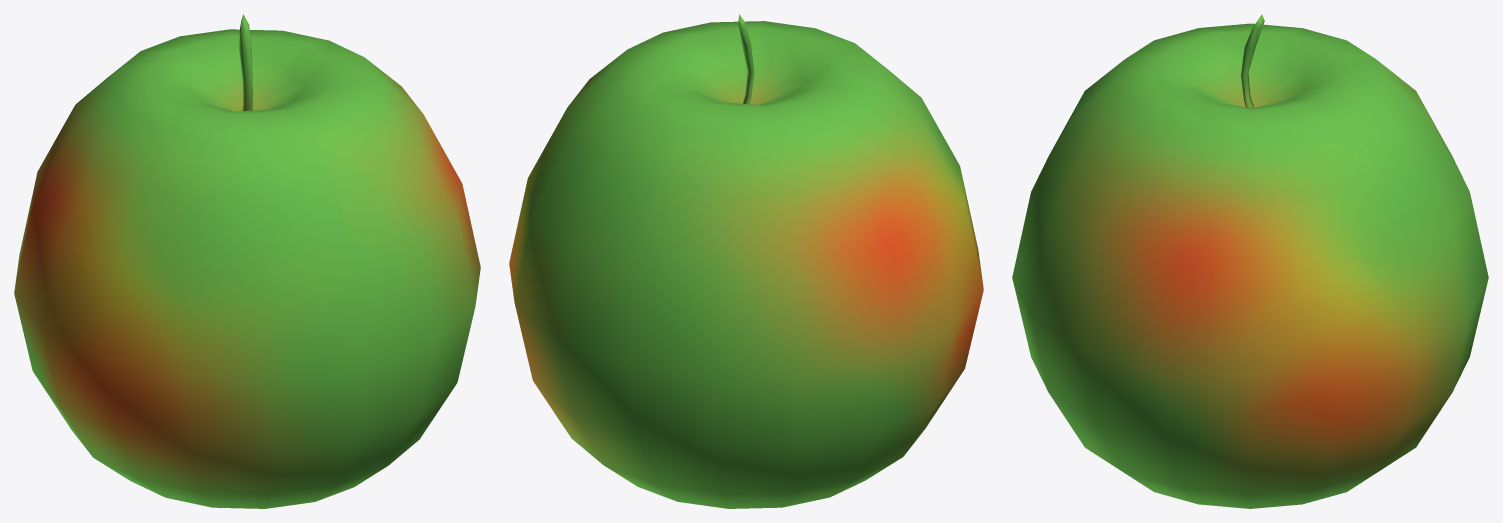
The model's file is apple.FBX.
The picture shows the model from 3 angles, left to right: view 1: azimuth 30°, elevation 25°; view 2: azimuth 150°, elevation 25°; view 3: azimuth 270°, elevation 25°; orthographic projection.
Parts seen in each view (by area): view 1: apple; view 2: apple; view 3: apple.
Part boxes in pixels (x1,y1,x2,y2): apple: [14, 14, 480, 508]; apple: [509, 14, 983, 508]; apple: [1012, 14, 1488, 508].
Bounding box in the file's own units: 9.07 × 9.42 × 9.07.
